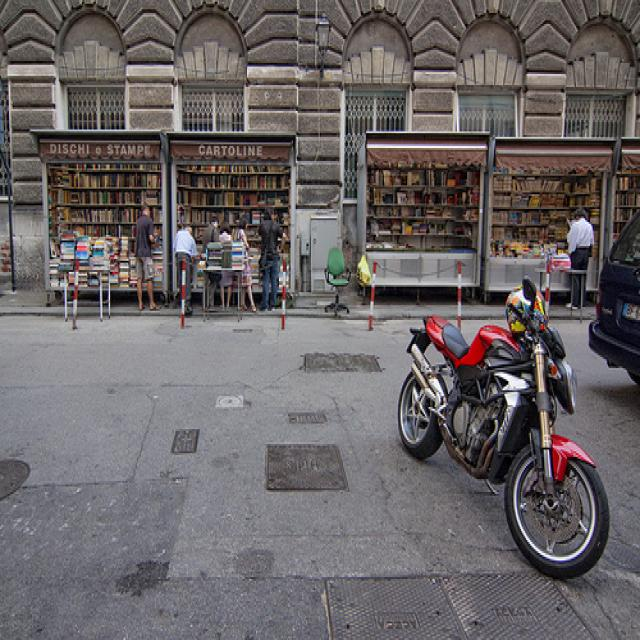motor: (397, 278, 610, 578)
